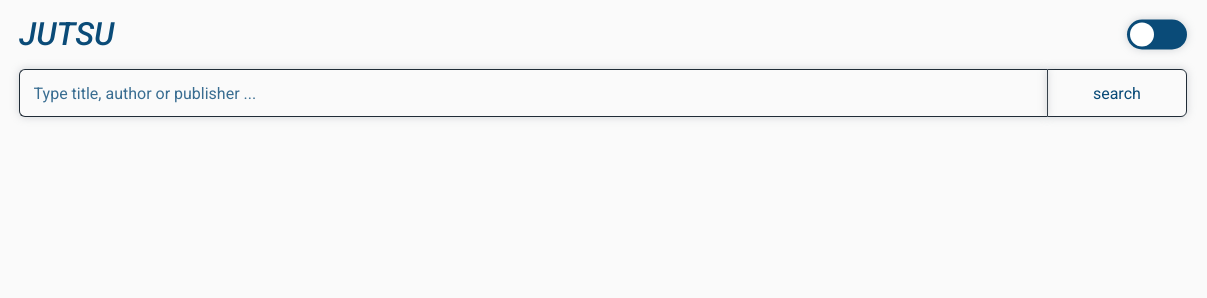
Scenario: BookDetails › should render the error element if the response is rejected
Type "Query" into the search field.
click(533, 93); type("Query")  # box left=19, top=69, right=1047, bottom=117
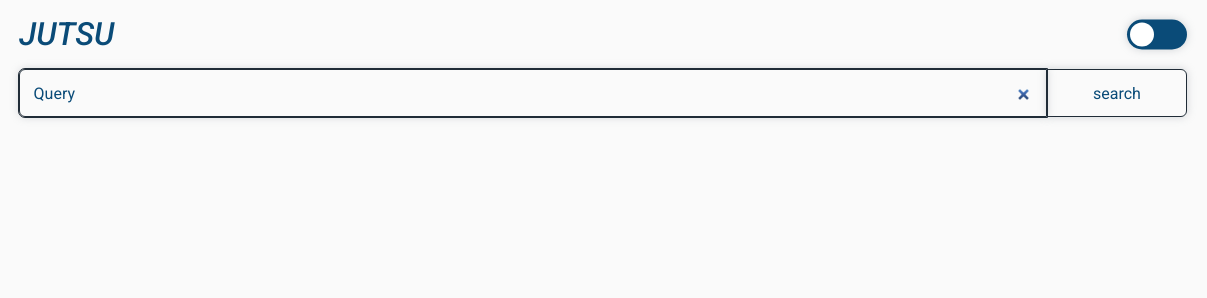
Click the button "search".
click(1117, 93)  # box left=1047, top=69, right=1187, bottom=117
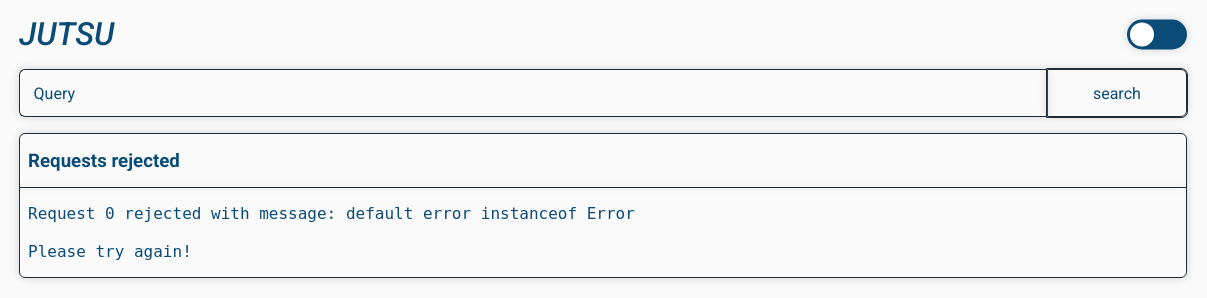
Expected: the text "default error instanceof Error" is shown, left=28, top=204, right=644, bottom=223
